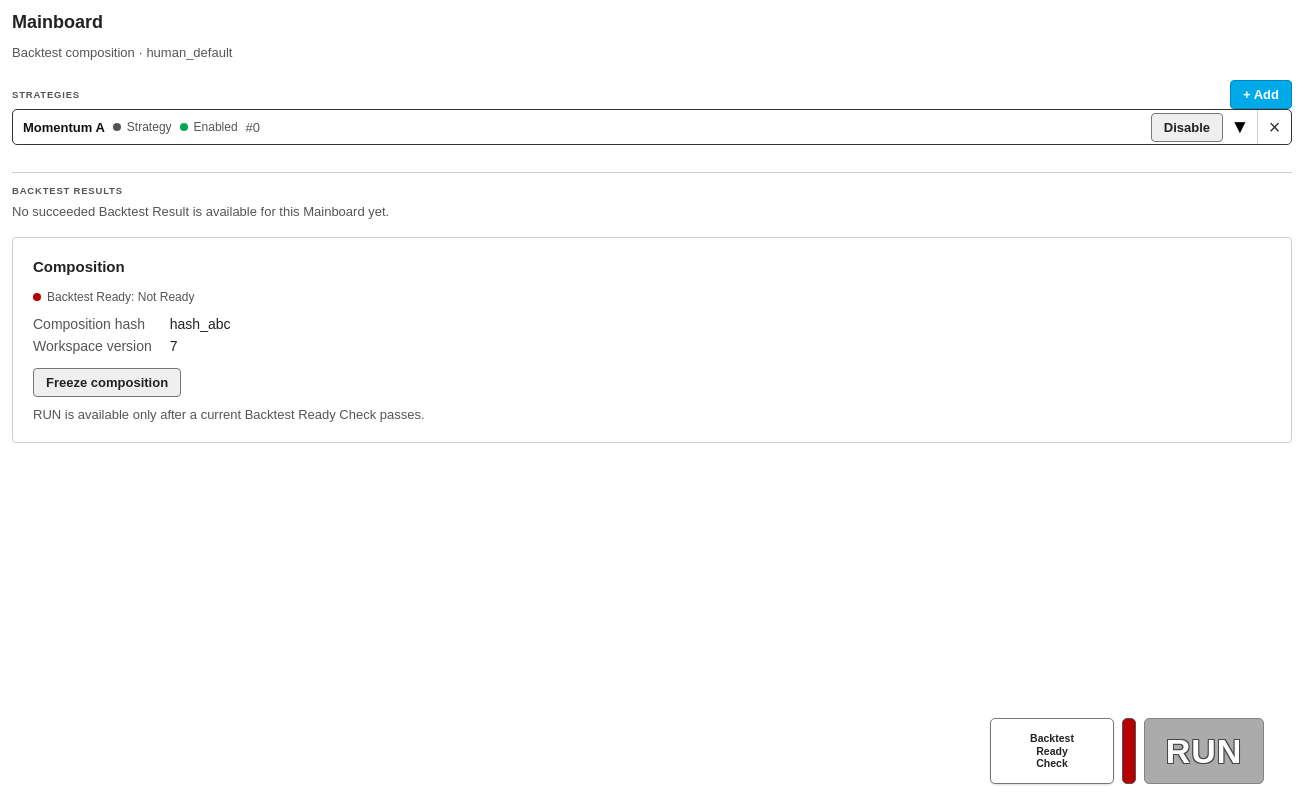
Test: Mainboard › shows a calm note (not an ErrorState) for a legacy non-editor strategy item
Click the button named "Expand Momentum A" at (1240, 127), box 1223,110 -> 1257,144
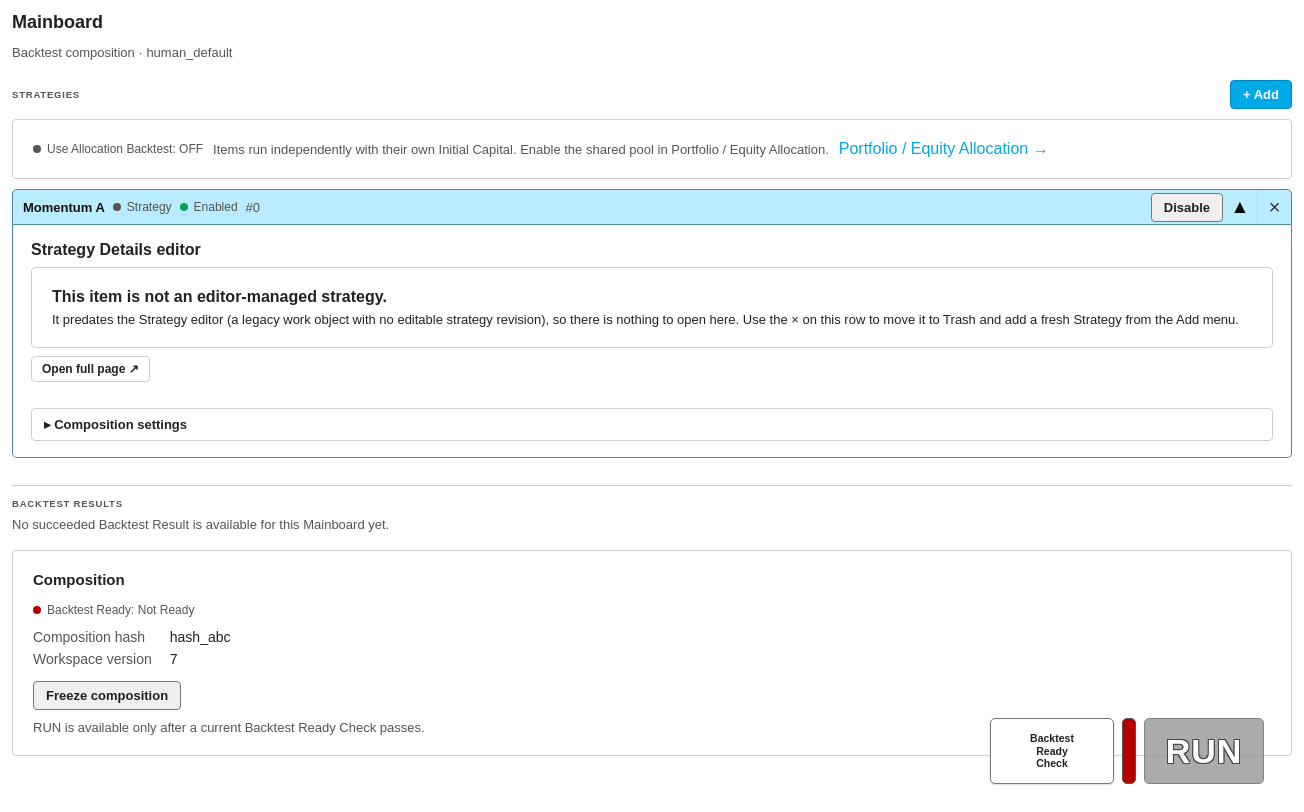
Check: the text "This item is not an editor-managed strategy." is shown, box 52,288 -> 387,305
Check: the text "Use the × on this row to move it to Trash" is shown, box 52,312 -> 1239,327
